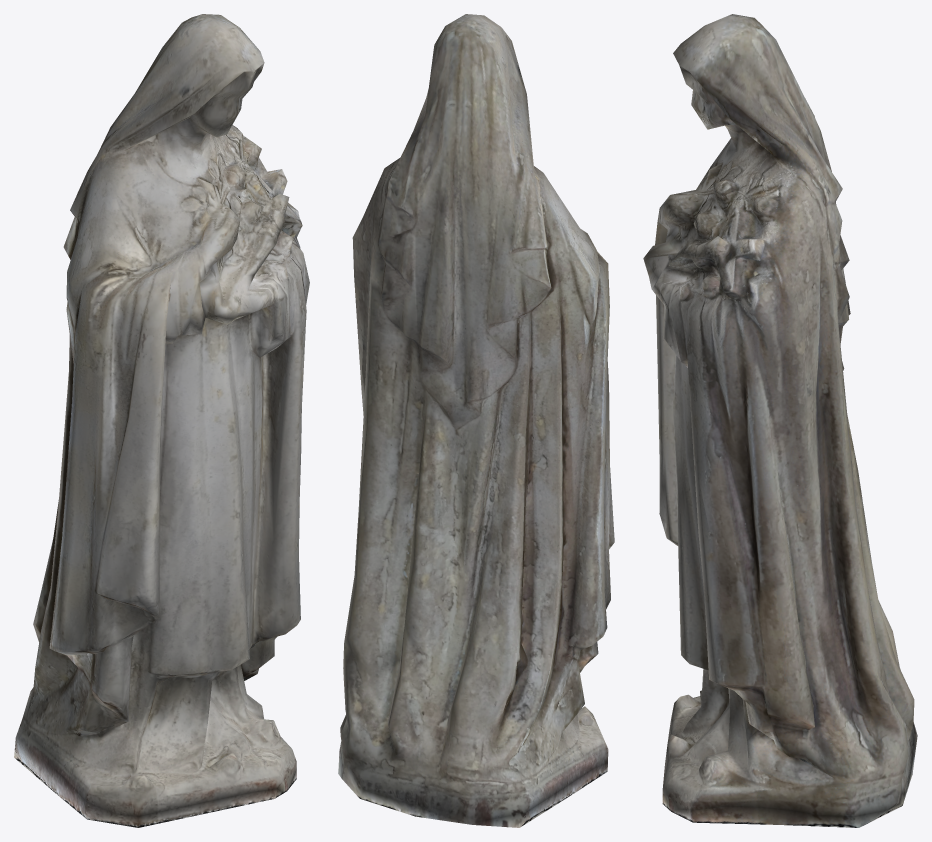
Rendered from SantaMaria_1k.fbx.
3 views of the same model, side by side, from view 1: azimuth 30°, elevation 25°; view 2: azimuth 150°, elevation 25°; view 3: azimuth 270°, elevation 25° (orthographic). The views are drawn at different scales.
Parts seen in each view (by area): view 1: marie_1k_msh; view 2: marie_1k_msh; view 3: marie_1k_msh.
Part boxes in pixels (<box>): marie_1k_msh: <box>14,14,309,827</box>; marie_1k_msh: <box>338,14,614,827</box>; marie_1k_msh: <box>643,14,917,827</box>.
Size of the model in its own units: 14.98 by 44.1 by 14.2.
1 material, 1 textured.
